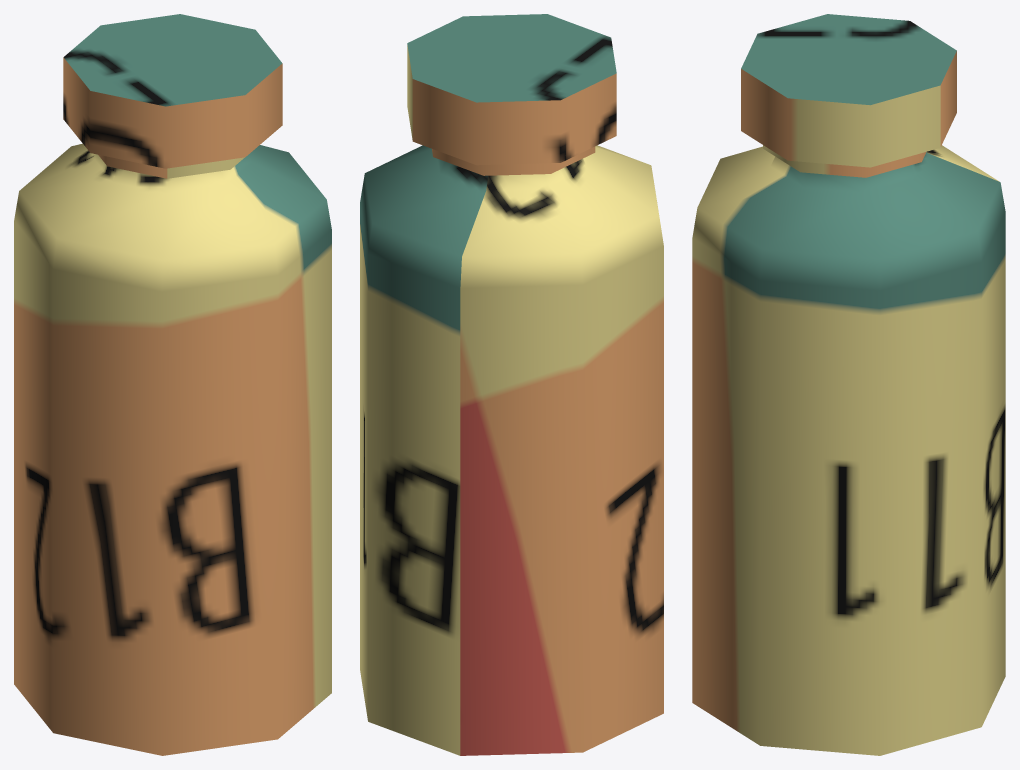
Rendered from SM_Botlle_S_01a.fbx.
3 views of the same model, side by side, from view 1: azimuth 30°, elevation 25°; view 2: azimuth 150°, elevation 25°; view 3: azimuth 270°, elevation 25° (orthographic).
Visible parts, largest first — view 1: SM_Botlle_S_01a; view 2: SM_Botlle_S_01a; view 3: SM_Botlle_S_01a.
Boxes of the visible parts, bbox=[...] form: SM_Botlle_S_01a: bbox=[14, 14, 331, 755]; SM_Botlle_S_01a: bbox=[360, 14, 663, 755]; SM_Botlle_S_01a: bbox=[692, 14, 1005, 755].
Size of the model in its own units: 2.92 by 6.47 by 2.92.
1 material, 1 textured.
